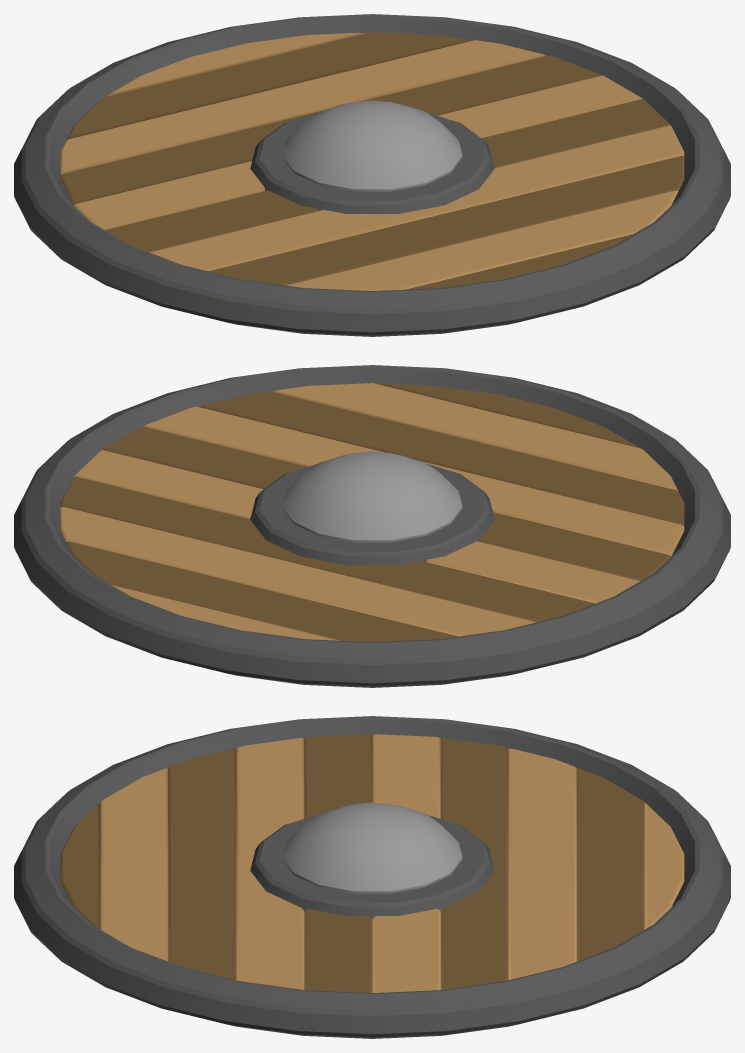
File: Entity_Shield.FBX
The picture shows the model from 3 angles, top to bottom: view 1: azimuth 30°, elevation 25°; view 2: azimuth 150°, elevation 25°; view 3: azimuth 270°, elevation 25°; orthographic projection.
Parts seen in each view (by area): view 1: Shield; view 2: Shield; view 3: Shield.
Boxes of the visible parts, x1,y1,x2,y2 form: Shield: [14, 14, 730, 336]; Shield: [14, 365, 730, 687]; Shield: [14, 716, 730, 1038].
Size of the model in its own units: 237 by 54.75 by 236.
